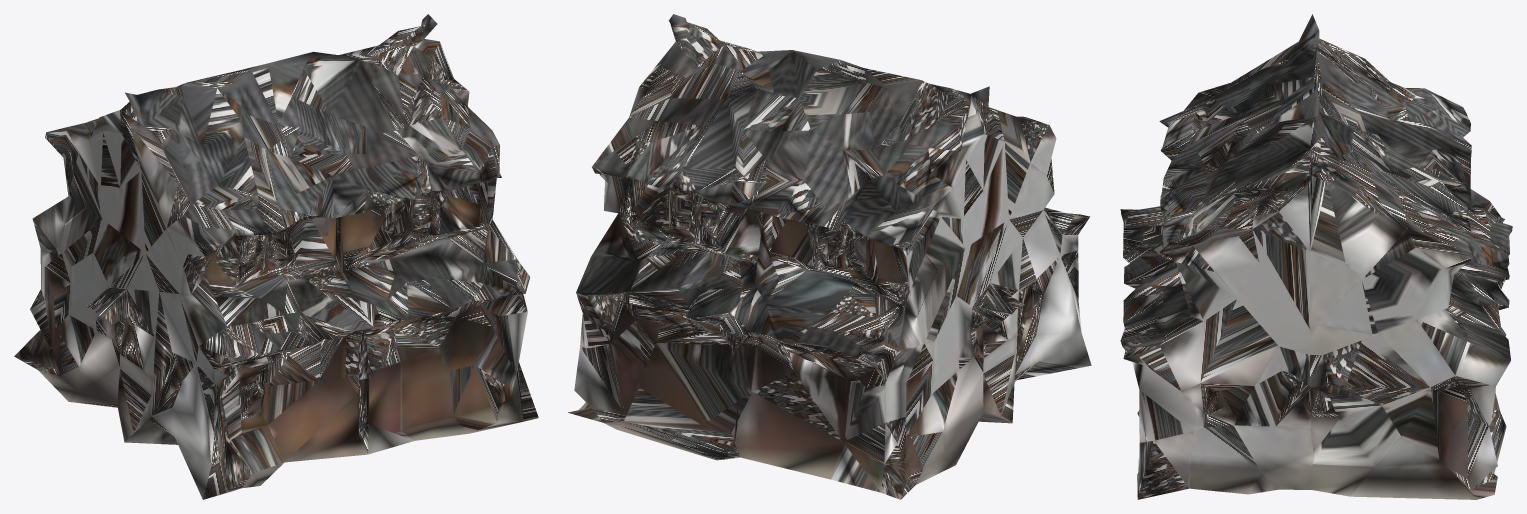
File: bq_house_2f.lod2.glb
The picture shows the model from 3 angles, left to right: view 1: azimuth 30°, elevation 25°; view 2: azimuth 150°, elevation 25°; view 3: azimuth 270°, elevation 25°; orthographic projection. The views are drawn at different scales.
Bounding box in the file's own units: 1.9 × 1.68 × 1.8.
Materials: 1 (1 with a texture image).
